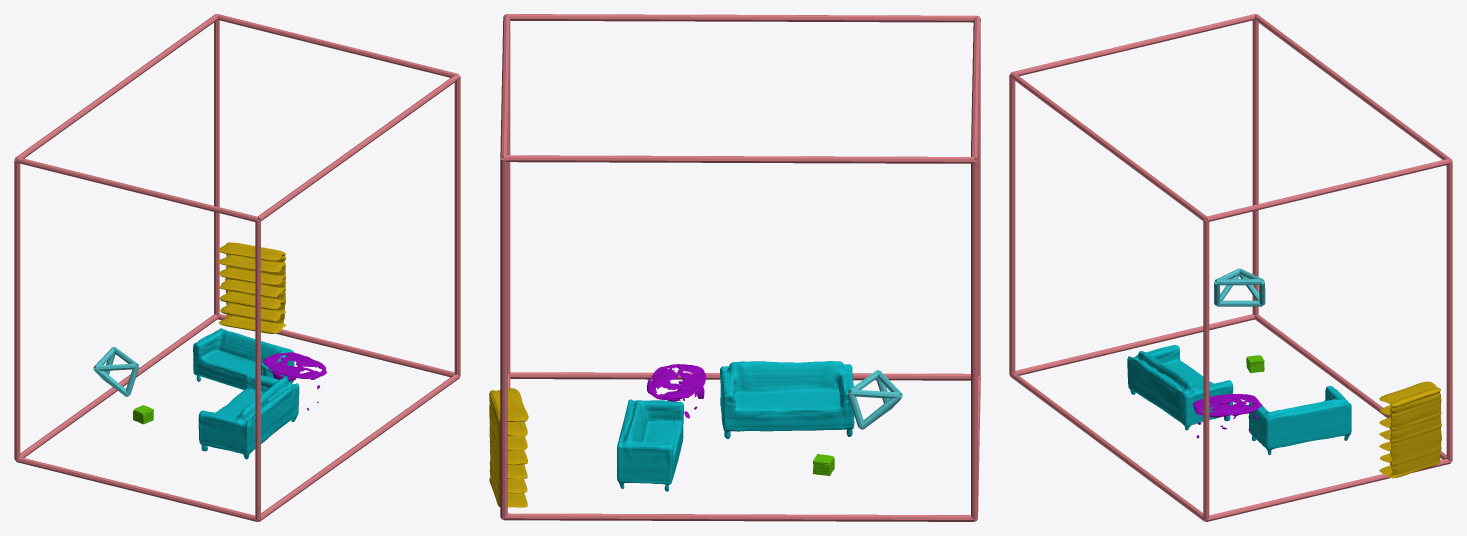
3 renders of one model, left to right at view 1: azimuth 30°, elevation 25°; view 2: azimuth 150°, elevation 25°; view 3: azimuth 270°, elevation 25°, orthographic. The views are drawn at different scales.
Visible parts, largest first — view 1: world; view 2: world; view 3: world.
Boxes of the visible parts, <box> form: world: <box>14,14,460,521</box>; world: <box>489,14,980,521</box>; world: <box>1009,14,1452,521</box>.
Size of the model in its own units: 8.01 by 5.56 by 7.3.
